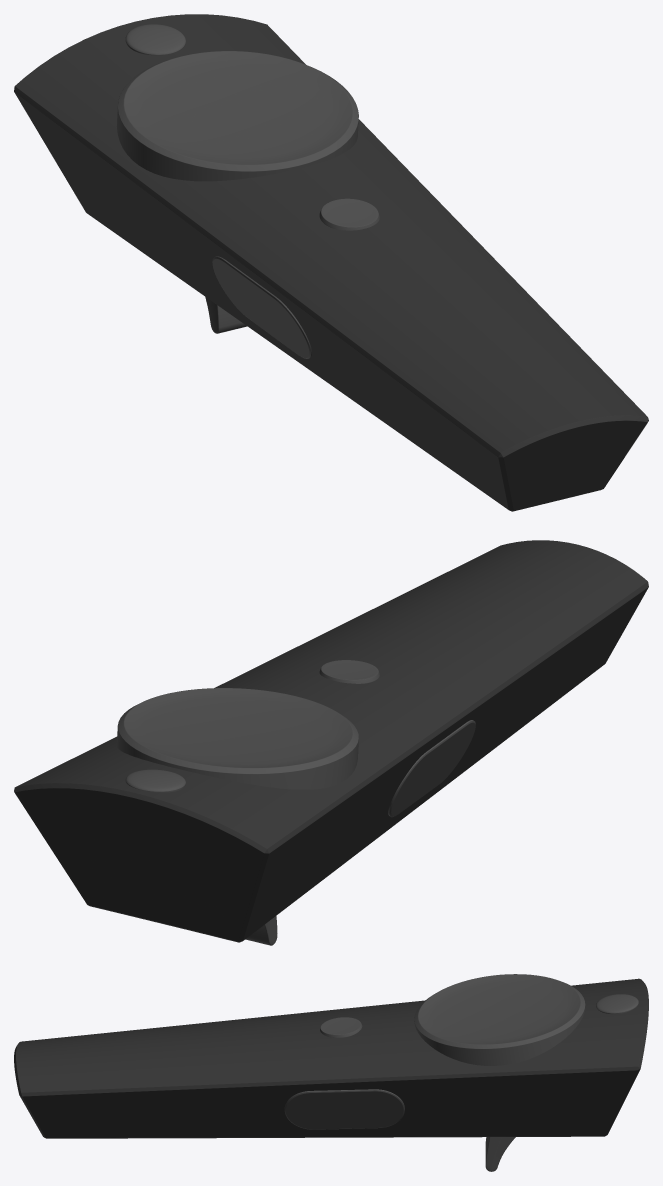
Rendered from varjocontroller.gltf.
The picture shows the model from 3 angles, top to bottom: view 1: azimuth 30°, elevation 25°; view 2: azimuth 150°, elevation 25°; view 3: azimuth 270°, elevation 25°; orthographic projection. The views are drawn at different scales.
Parts seen in each view (by area): view 1: Body, TouchPad, GripButton, SystemButton, Button, Trigger; view 2: Body, TouchPad, GripButton, SystemButton, Button; view 3: Body, TouchPad, GripButton, SystemButton, Button, Trigger.
Part boxes in pixels (left/top/right/bottom): Body: left=14, top=14, right=648, bottom=511; TouchPad: left=116, top=51, right=358, bottom=181; GripButton: left=212, top=256, right=311, bottom=358; SystemButton: left=319, top=198, right=379, bottom=230; Button: left=125, top=24, right=185, bottom=55; Trigger: left=205, top=297, right=247, bottom=333; Body: left=14, top=540, right=648, bottom=942; TouchPad: left=116, top=688, right=358, bottom=789; GripButton: left=388, top=720, right=475, bottom=817; SystemButton: left=319, top=660, right=379, bottom=683; Button: left=125, top=769, right=185, bottom=792; Body: left=14, top=978, right=648, bottom=1138; TouchPad: left=414, top=974, right=585, bottom=1065; GripButton: left=284, top=1089, right=404, bottom=1129; SystemButton: left=320, top=1017, right=362, bottom=1037; Button: left=596, top=994, right=638, bottom=1014; Trigger: left=485, top=1137, right=515, bottom=1171.
Size of the model in its own units: 0.0516 by 0.0437 by 0.1562.
Materials: 1 (1 with a texture image).
